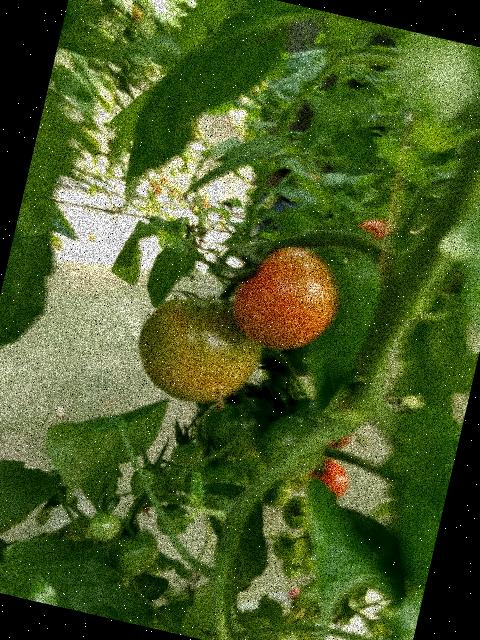l_fully_ripened: (304, 457, 351, 500)
l_green: (195, 386, 283, 470), (251, 406, 330, 487), (180, 449, 253, 500), (106, 522, 162, 580), (125, 460, 176, 509), (277, 492, 314, 533), (153, 501, 192, 539), (86, 508, 123, 544), (257, 474, 292, 511), (268, 527, 303, 564), (170, 437, 205, 468), (277, 554, 302, 582)
l_half_ripened: (126, 280, 271, 416), (223, 236, 346, 360)
